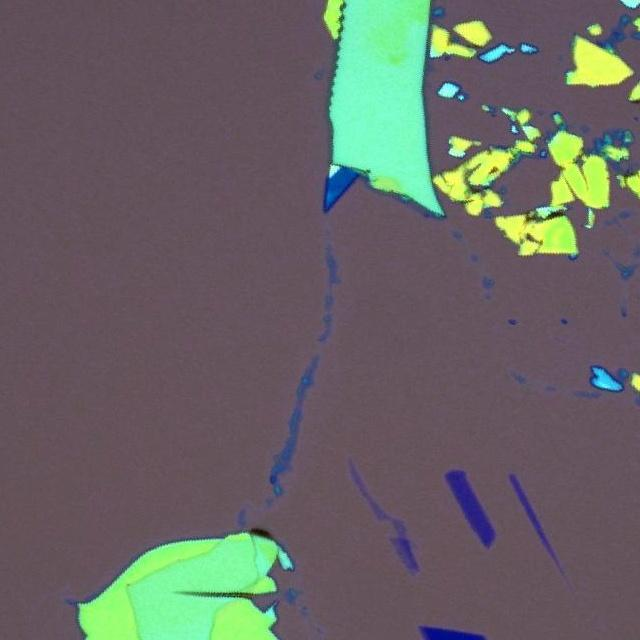monolayer-eWW4: (346, 457, 407, 538), (388, 536, 416, 574)
